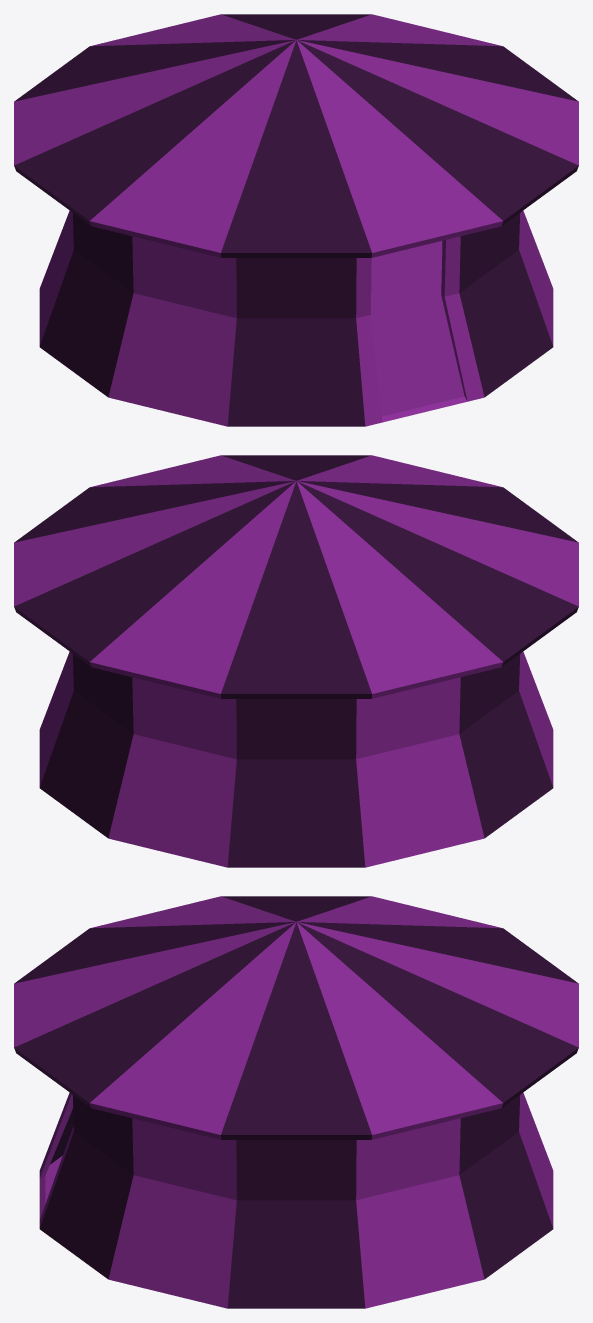
The model's file is Tent_5_Purple.fbx.
3 renders of one model, top to bottom at view 1: azimuth 30°, elevation 25°; view 2: azimuth 150°, elevation 25°; view 3: azimuth 270°, elevation 25°, orthographic.
Parts seen in each view (by area): view 1: Tent_5_Purple_Part_14, Tent_5_Purple_Part_3, Tent_5_Purple_Part_4, Tent_5_Purple_Part_13, Tent_5_Purple_Part_1, Tent_5_Purple_Part_5, Tent_5_Purple_Part_6, Tent_5_Purple_Part_12; view 2: Tent_5_Purple_Part_14, Tent_5_Purple_Part_7, Tent_5_Purple_Part_6, Tent_5_Purple_Part_8, Tent_5_Purple_Part_5, Tent_5_Purple_Part_9, Tent_5_Purple_Part_4, Tent_5_Purple_Part_10; view 3: Tent_5_Purple_Part_14, Tent_5_Purple_Part_11, Tent_5_Purple_Part_10, Tent_5_Purple_Part_12, Tent_5_Purple_Part_13, Tent_5_Purple_Part_9, Tent_5_Purple_Part_8, Tent_5_Purple_Part_3, Tent_5_Purple_Part_1.
Part boxes in pixels (x1,y1,x2,y2): Tent_5_Purple_Part_14: [14, 14, 578, 257]; Tent_5_Purple_Part_3: [227, 258, 382, 426]; Tent_5_Purple_Part_4: [108, 236, 236, 426]; Tent_5_Purple_Part_13: [441, 213, 553, 401]; Tent_5_Purple_Part_1: [371, 240, 467, 422]; Tent_5_Purple_Part_5: [39, 213, 133, 396]; Tent_5_Purple_Part_6: [39, 210, 73, 345]; Tent_5_Purple_Part_12: [519, 210, 553, 345]; Tent_5_Purple_Part_14: [14, 455, 578, 698]; Tent_5_Purple_Part_7: [227, 699, 365, 867]; Tent_5_Purple_Part_6: [356, 677, 484, 867]; Tent_5_Purple_Part_8: [108, 677, 236, 867]; Tent_5_Purple_Part_5: [459, 654, 553, 837]; Tent_5_Purple_Part_9: [39, 654, 133, 837]; Tent_5_Purple_Part_4: [519, 651, 553, 786]; Tent_5_Purple_Part_10: [39, 651, 73, 786]; Tent_5_Purple_Part_14: [14, 896, 578, 1139]; Tent_5_Purple_Part_11: [227, 1140, 365, 1308]; Tent_5_Purple_Part_10: [356, 1118, 484, 1308]; Tent_5_Purple_Part_12: [108, 1118, 236, 1308]; Tent_5_Purple_Part_13: [39, 1095, 133, 1278]; Tent_5_Purple_Part_9: [459, 1095, 553, 1278]; Tent_5_Purple_Part_8: [519, 1092, 553, 1227]; Tent_5_Purple_Part_3: [39, 1092, 73, 1178]; Tent_5_Purple_Part_1: [39, 1155, 62, 1219].
Size of the model in its own units: 819 by 445 by 819.
